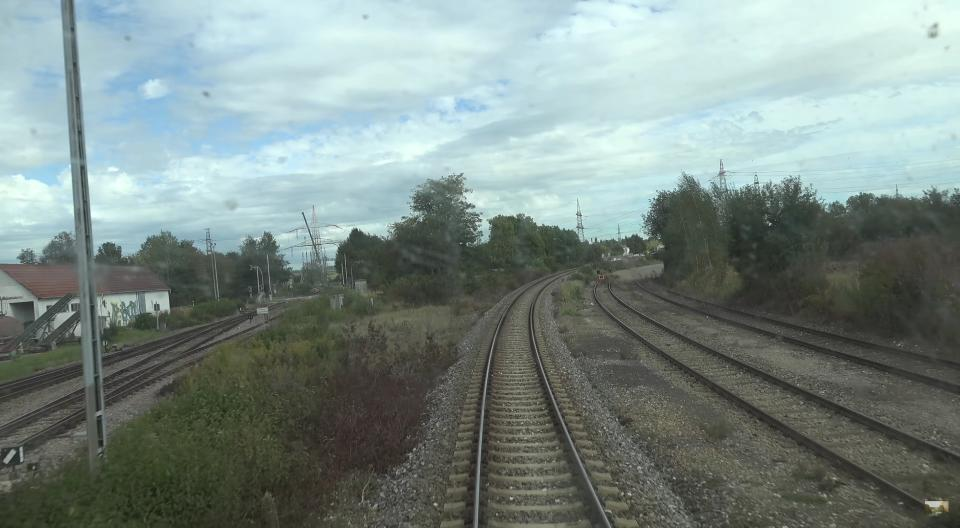Plant: (286, 326, 456, 528), (552, 267, 593, 316), (620, 348, 629, 359), (562, 333, 570, 343), (560, 325, 568, 333)
